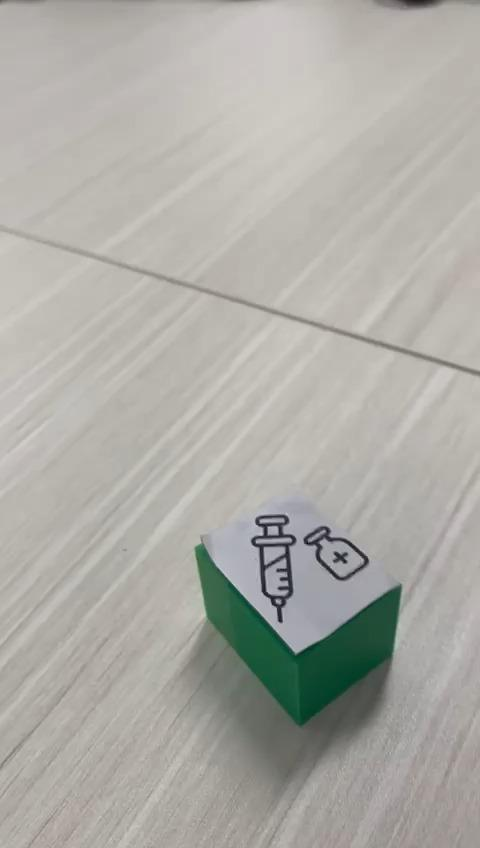antiseptic cream: (193, 490, 403, 726)
